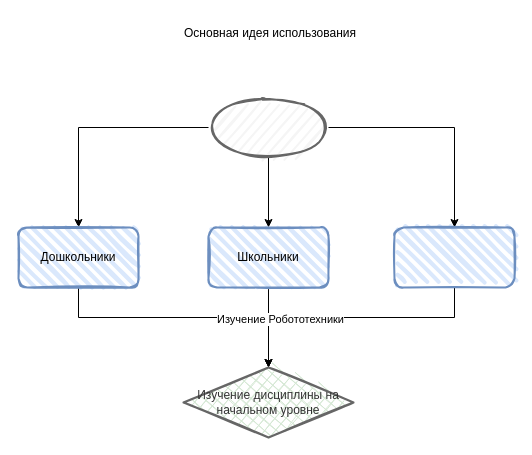
The diagram is 532 pixels wide and 455 high, and some of its shapes have lost their labels. The shapes that lost their labels are listed below. From the top down, each one's box as (x1, y1, x2, y2) in pixels, then its label:
(207, 96, 329, 158): Начинающие
(393, 226, 515, 288): Направленные кружки
